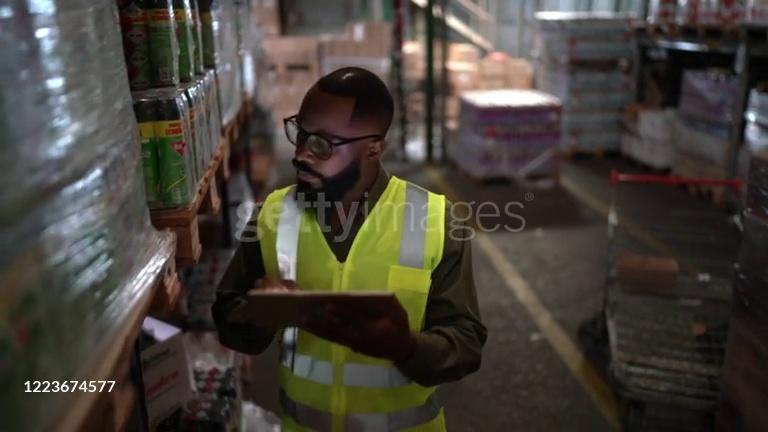person: (210, 65, 489, 432)
